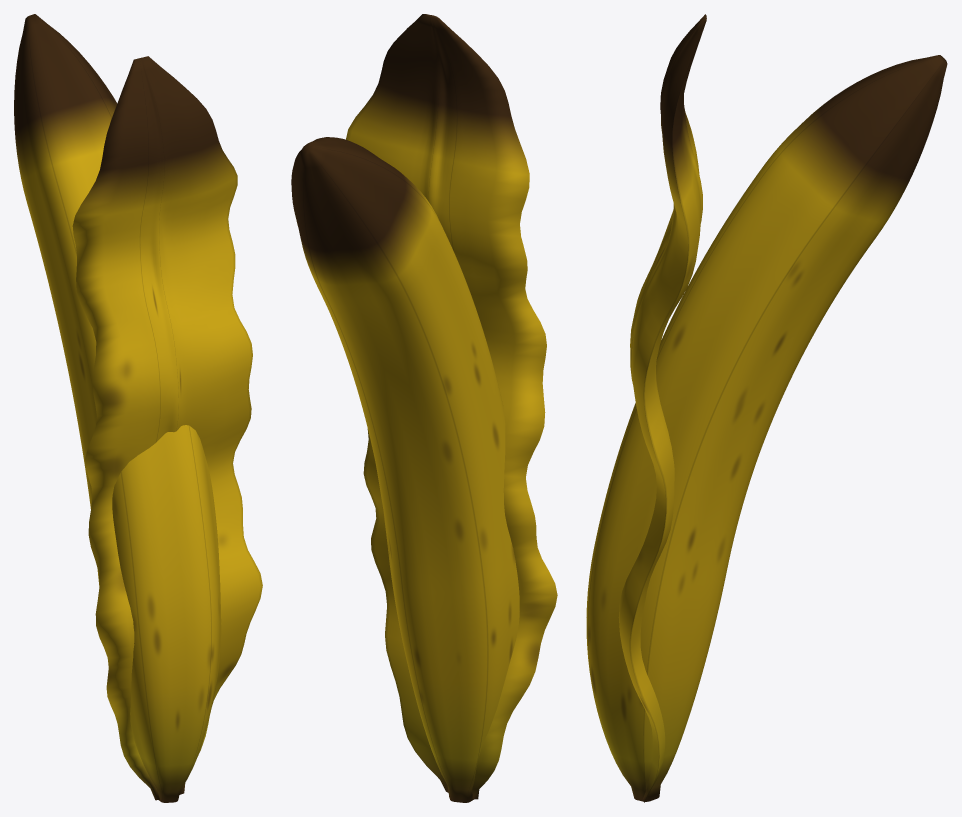
Rendered from inflatable_banana.glb.
The picture shows the model from 3 angles, left to right: view 1: azimuth 30°, elevation 25°; view 2: azimuth 150°, elevation 25°; view 3: azimuth 270°, elevation 25°; orthographic projection. The views are drawn at different scales.
Visible parts, largest first — view 1: InflatableBanana_Broken_vinyl, InflatableBanana_Clean_vinyl; view 2: InflatableBanana_Clean_vinyl, InflatableBanana_Broken_vinyl; view 3: InflatableBanana_Clean_vinyl, InflatableBanana_Broken_vinyl.
Boxes of the visible parts, x1,y1,x2,y2 form: InflatableBanana_Broken_vinyl: [72, 56, 262, 800]; InflatableBanana_Clean_vinyl: [14, 14, 221, 802]; InflatableBanana_Clean_vinyl: [291, 137, 519, 802]; InflatableBanana_Broken_vinyl: [346, 14, 557, 799]; InflatableBanana_Clean_vinyl: [586, 55, 947, 801]; InflatableBanana_Broken_vinyl: [618, 14, 706, 802].
Size of the model in its own units: 0.2686 by 1.11 by 0.4655.
1 material, 1 textured.
